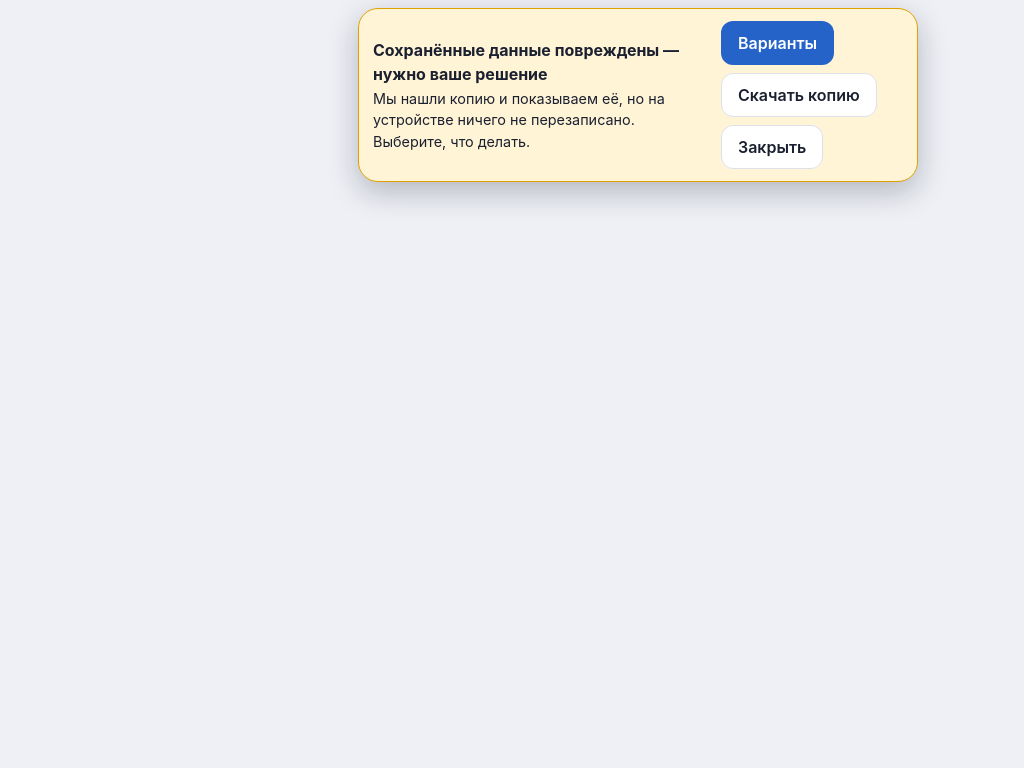
Test: recovery screen: an unreadable record with a usable legacy copy (recovery-pending) › CANCEL: closing the dialog (button) changes nothing — the choice stays open and nothing is written
The width and height of the screenshot is (1024, 768).
Click the button "Варианты": (778, 43) [721,21,834,65]
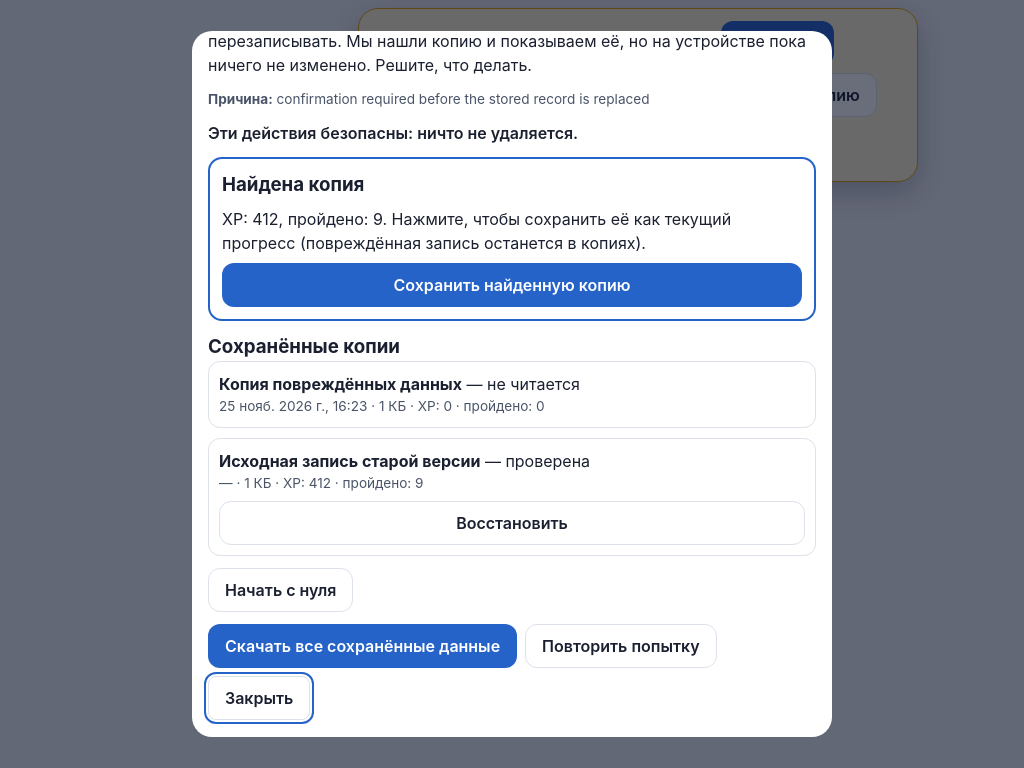
Click the button "Закрыть": (259, 698) [208,676,310,720]
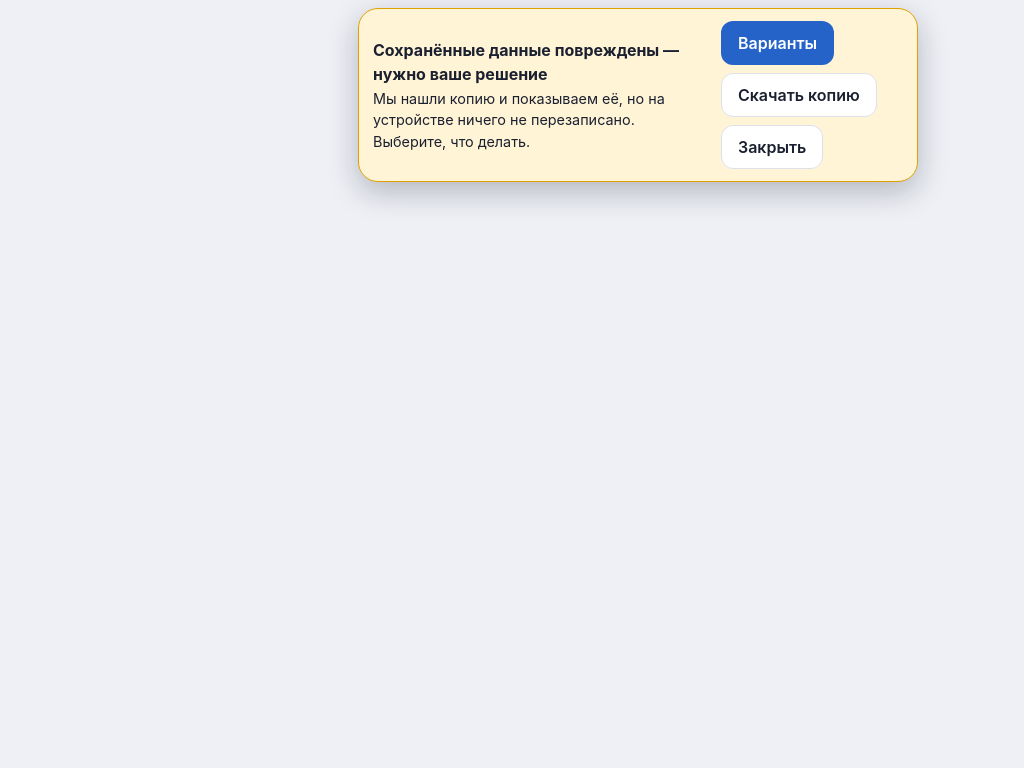
Check: the message with test id "storage-notice" is shown, box [358,8,918,182]
Check: the dialog is gone
